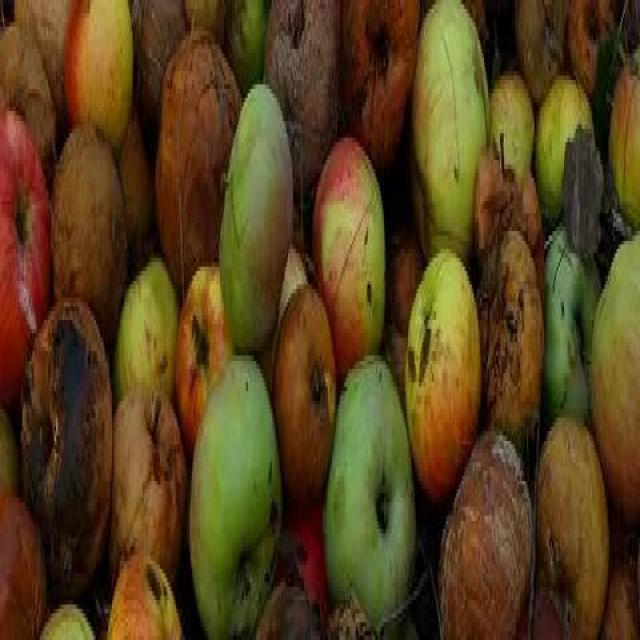Rotten: (12, 304, 143, 568), (198, 365, 285, 630), (433, 453, 533, 640), (273, 280, 347, 508), (480, 227, 550, 450)
